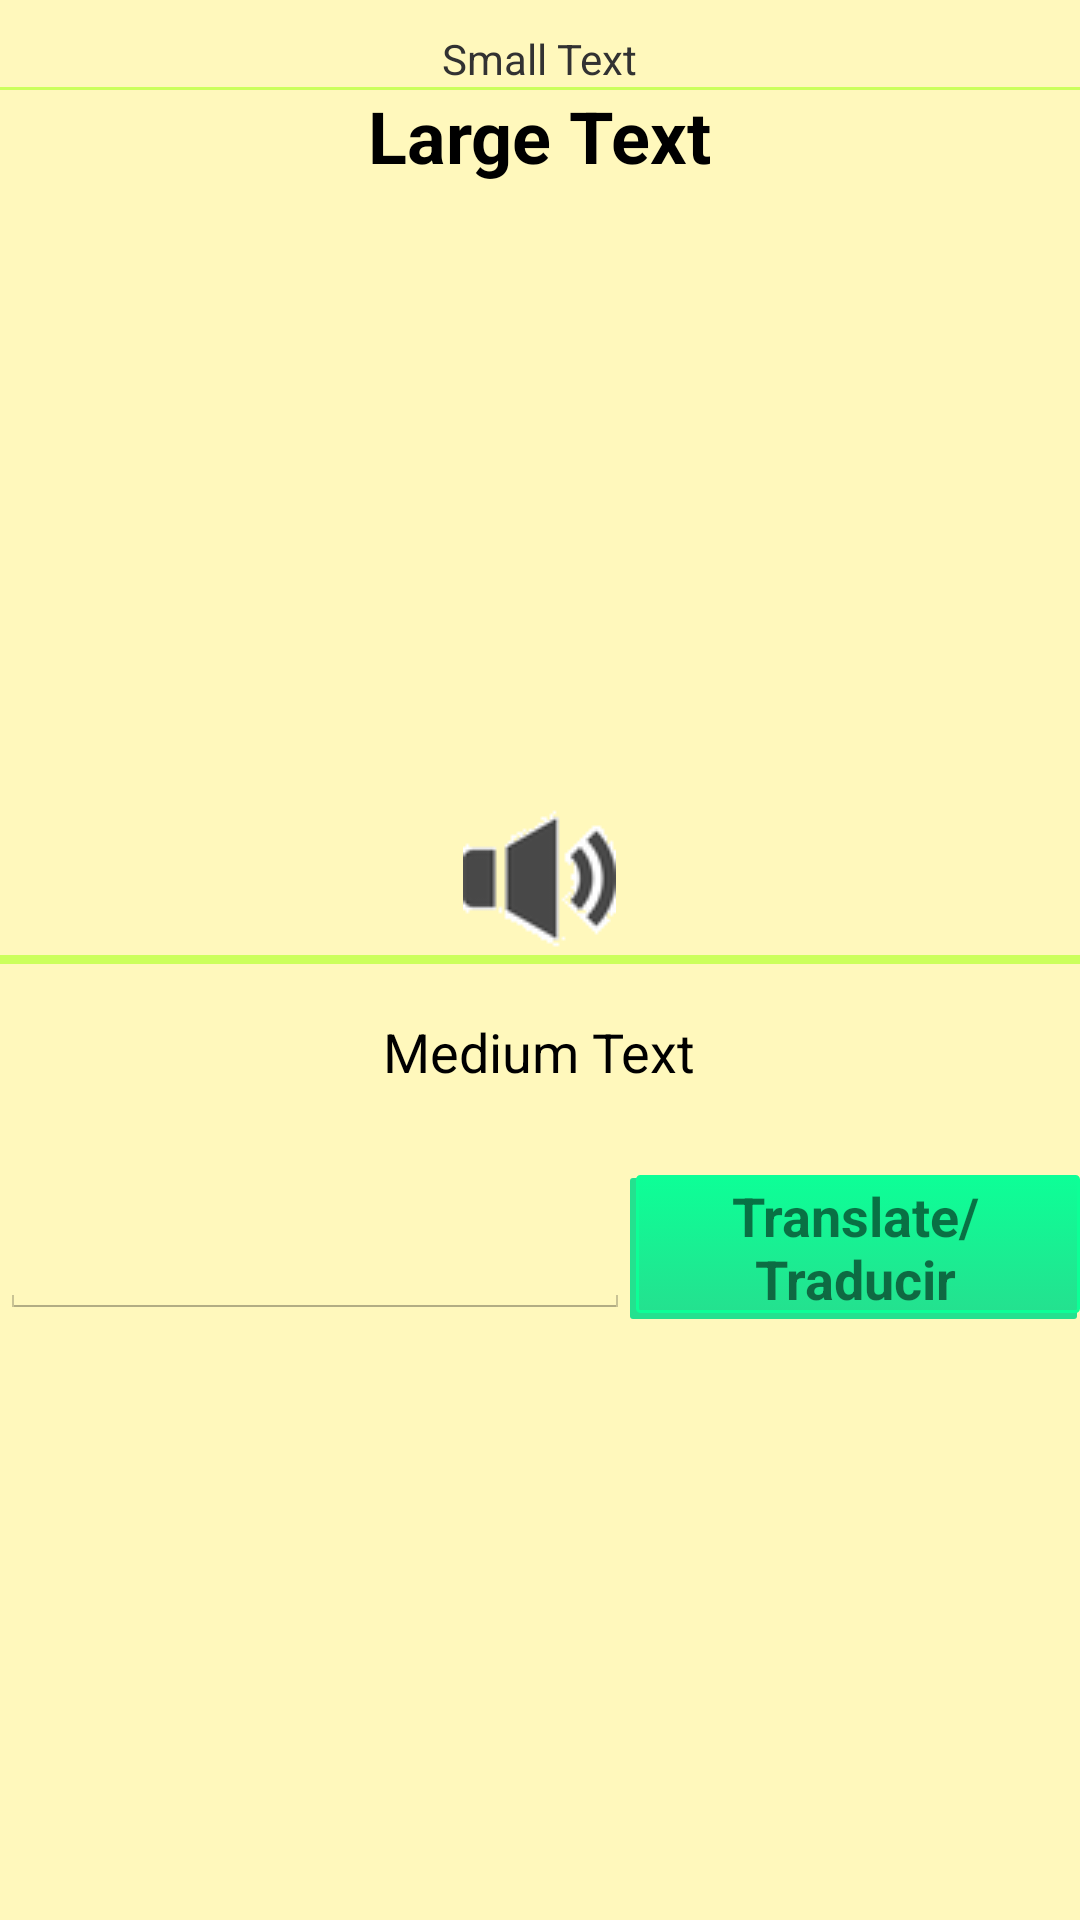

Icon bounding boxes for this 1080x1920 phone screenshot, format detection(x1, y1, x2, y2):
listen: detection(463, 811, 616, 946)
